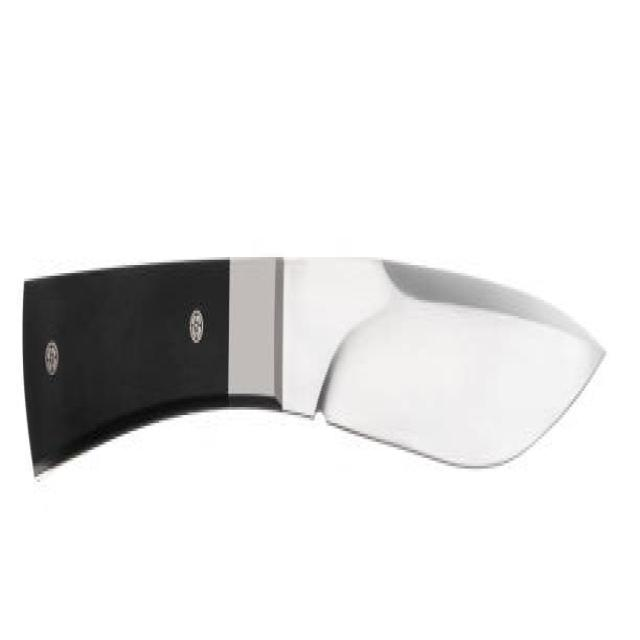knife: (9, 239, 613, 513)
